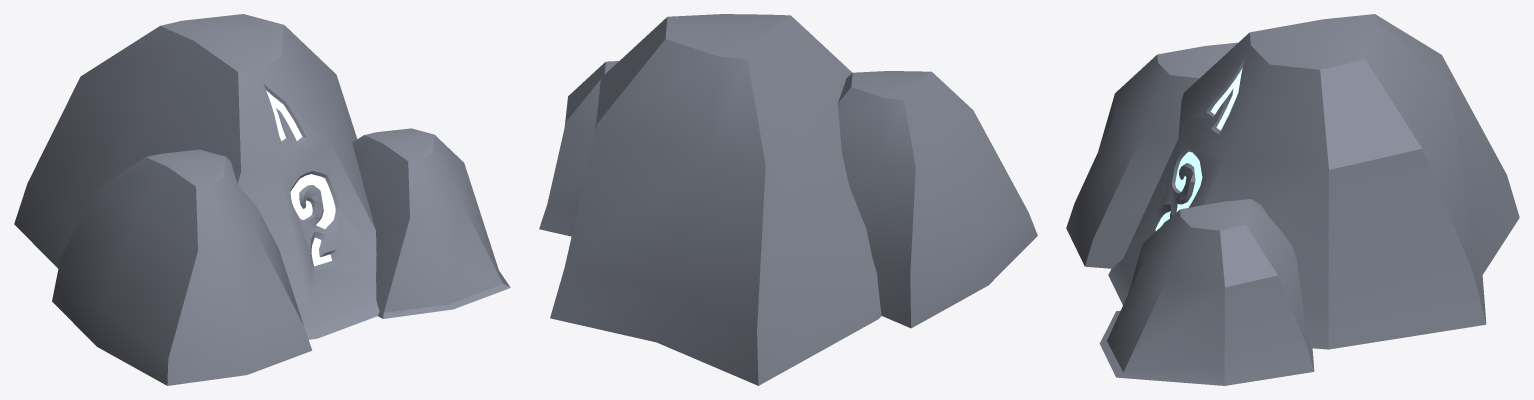
File: rock_rune.fbx
3 views of the same model, side by side, from view 1: azimuth 30°, elevation 25°; view 2: azimuth 150°, elevation 25°; view 3: azimuth 270°, elevation 25° (orthographic). The views are drawn at different scales.
Parts seen in each view (by area): view 1: rock_rune; view 2: rock_rune; view 3: rock_rune.
Boxes of the visible parts, x1,y1,x2,y2 form: rock_rune: (14,14,510,385); rock_rune: (539,14,1037,385); rock_rune: (1066,14,1519,385).
Bounding box in the file's own units: 399 × 228 × 380.
